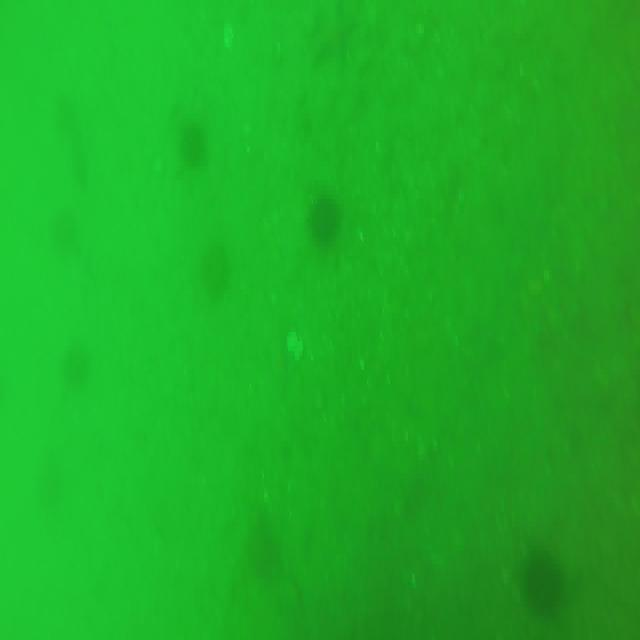echinus: (520, 547, 564, 614), (306, 187, 342, 250), (199, 249, 229, 297), (58, 347, 92, 389), (49, 210, 73, 261), (178, 124, 206, 166)
